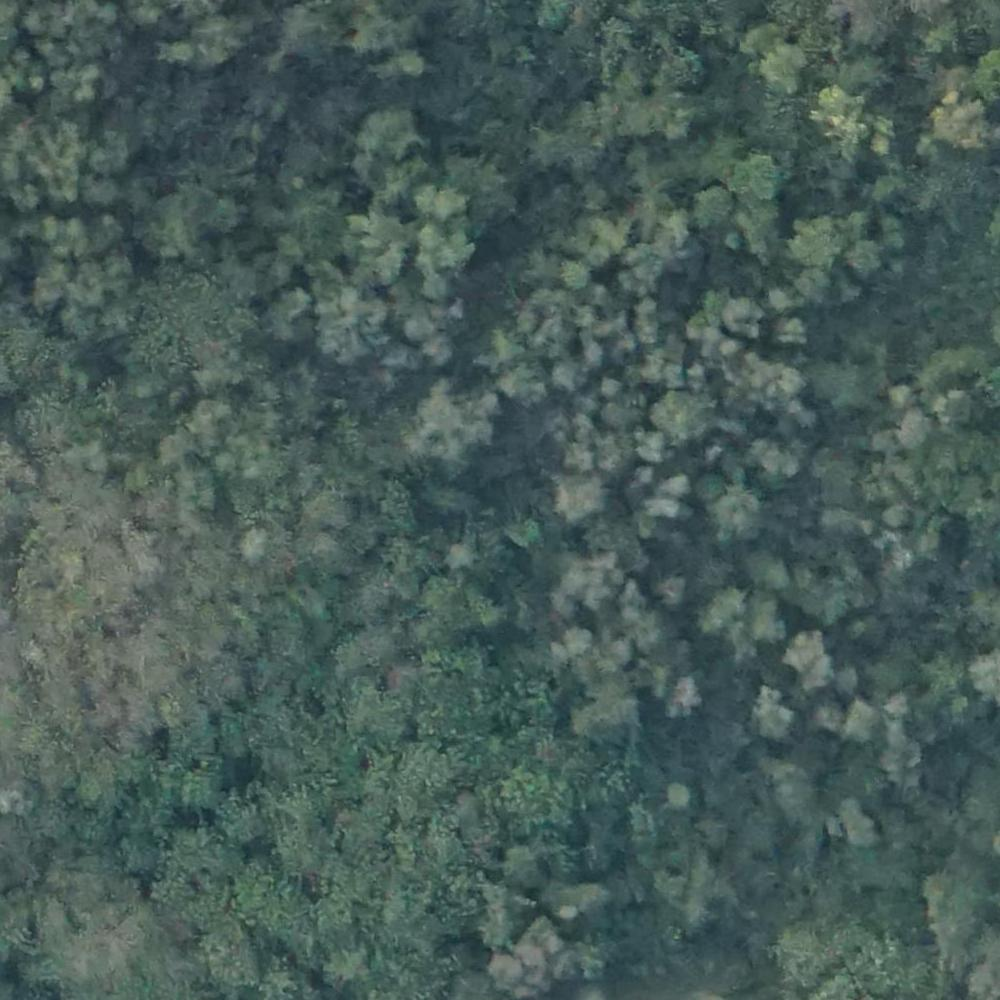tree: (43, 215, 137, 340), (781, 204, 879, 310), (347, 110, 441, 202), (406, 375, 496, 464), (313, 273, 386, 357), (491, 924, 571, 1000), (508, 764, 577, 845), (913, 89, 992, 155), (775, 626, 836, 703), (752, 29, 808, 101), (709, 488, 766, 550), (558, 551, 619, 608), (156, 190, 210, 251), (656, 389, 718, 442), (348, 690, 401, 752), (418, 220, 475, 274), (555, 470, 609, 526), (661, 666, 705, 721), (892, 399, 935, 453), (731, 144, 760, 220), (837, 795, 878, 846), (722, 291, 760, 339), (709, 591, 749, 634), (157, 426, 196, 470), (80, 168, 120, 200), (563, 257, 592, 290), (786, 315, 808, 341)
